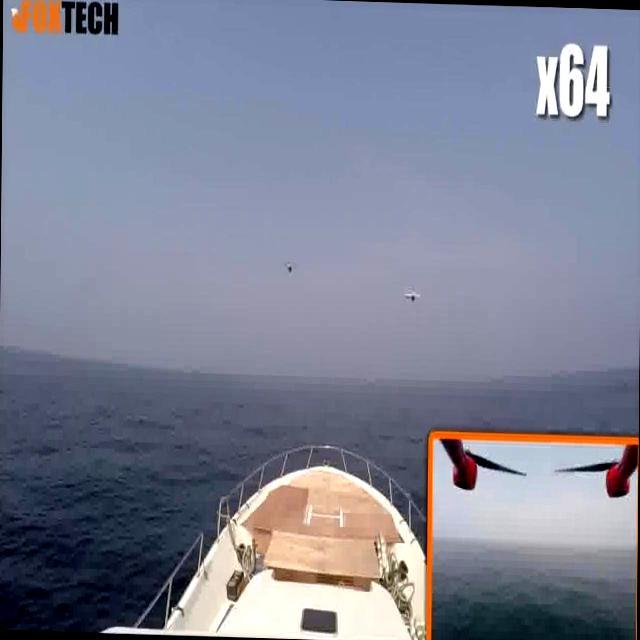drone: (278, 255, 302, 281), (404, 278, 422, 304)
